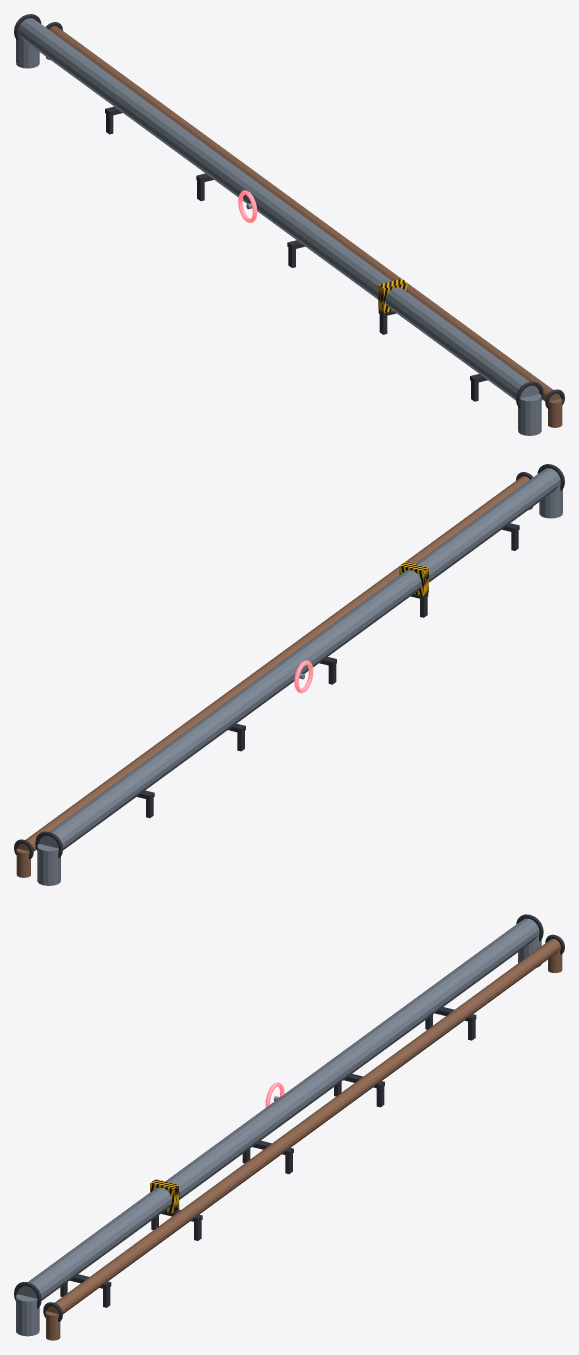
The model's file is roof_pipes.glb.
The picture shows the model from 3 angles, top to bottom: view 1: azimuth 30°, elevation 25°; view 2: azimuth 150°, elevation 25°; view 3: azimuth 330°, elevation 25°; orthographic projection.
Visible parts, largest first — view 1: Pipe, Pipe.001, Elbow; view 2: Pipe, Pipe.001, Elbow; view 3: Pipe, Pipe.001, Elbow.
Part boxes in pixels (box(x1,y1,x2,y2)): Pipe: box(16, 18, 541, 435); Pipe.001: box(46, 26, 562, 427); Elbow: box(14, 14, 564, 409); Pipe: box(37, 468, 562, 885); Pipe.001: box(16, 476, 532, 877); Elbow: box(14, 464, 564, 859); Pipe: box(16, 918, 541, 1336); Pipe.001: box(46, 939, 562, 1340); Elbow: box(14, 914, 564, 1321).
Size of the model in its own units: 0.6915 by 0.6052 by 11.26.
Materials: 6 (1 with a texture image).
